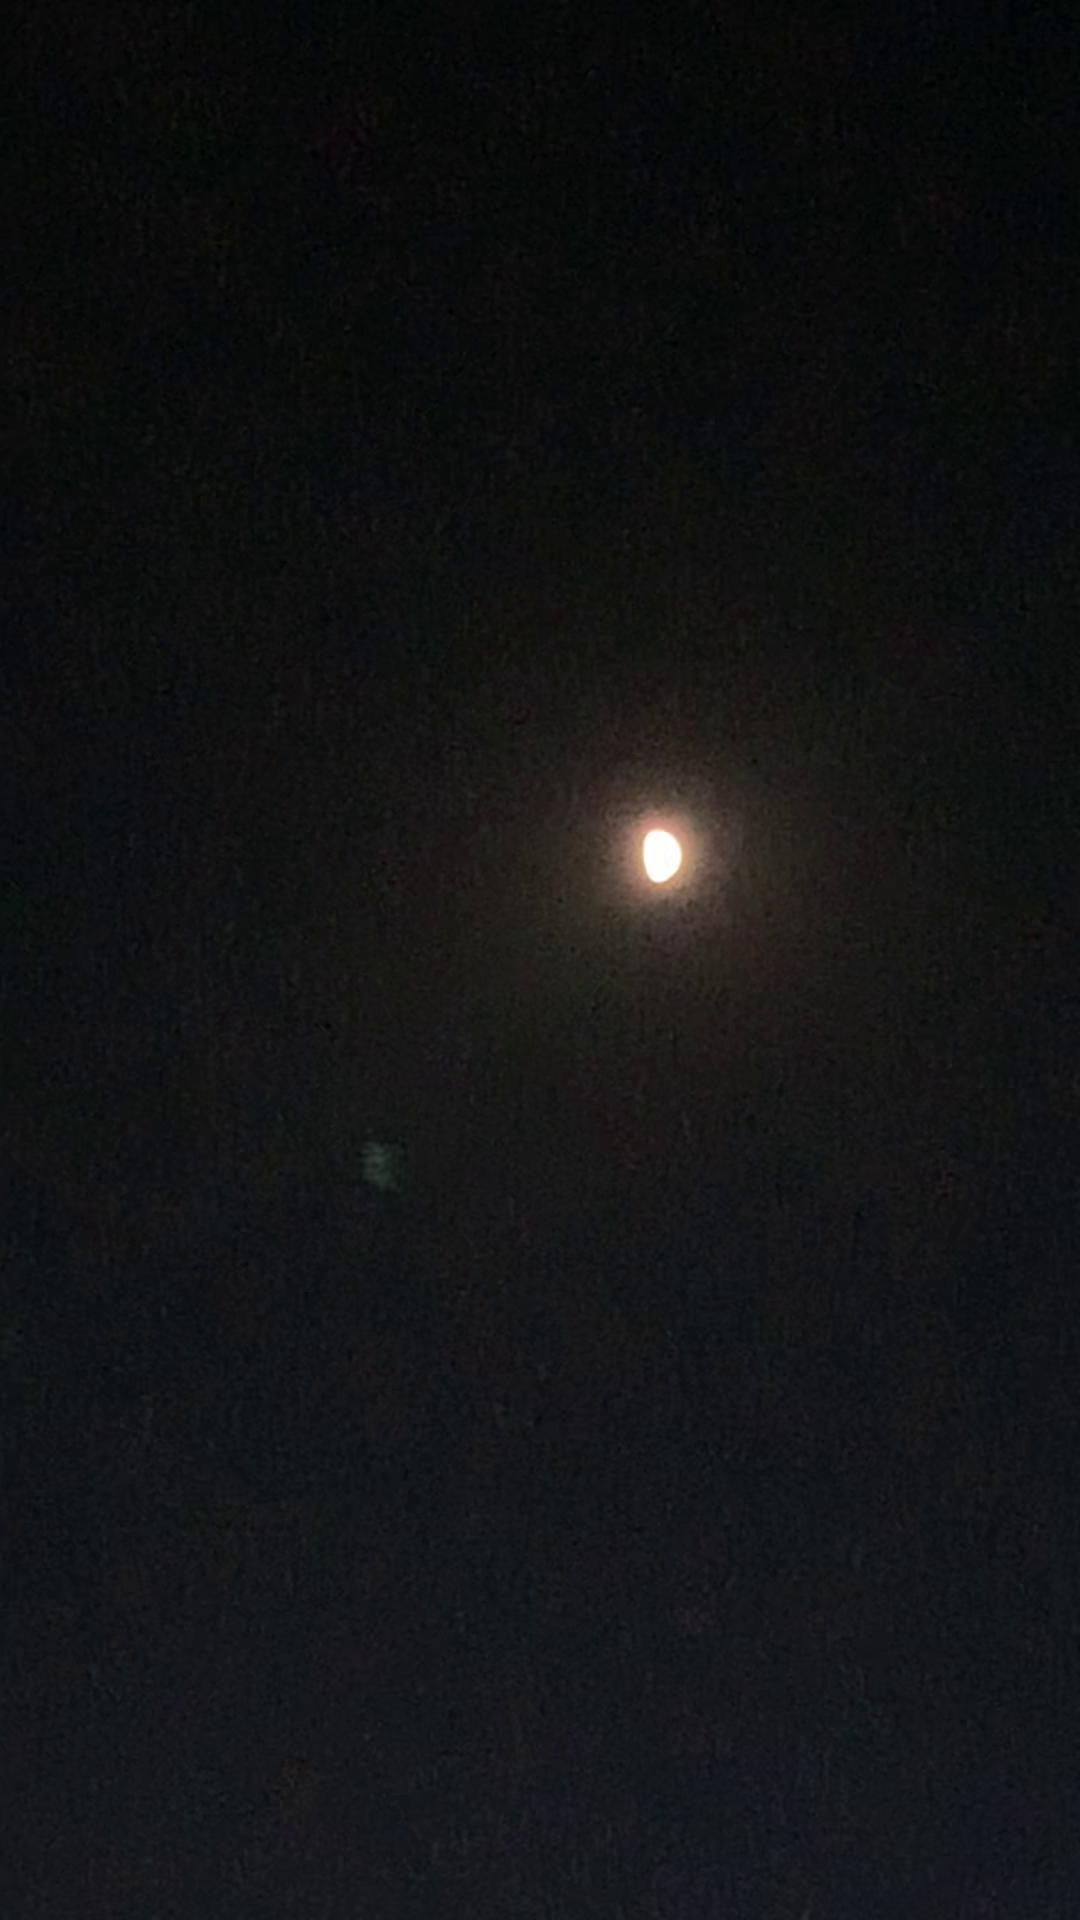moon: (609, 793, 702, 891)
